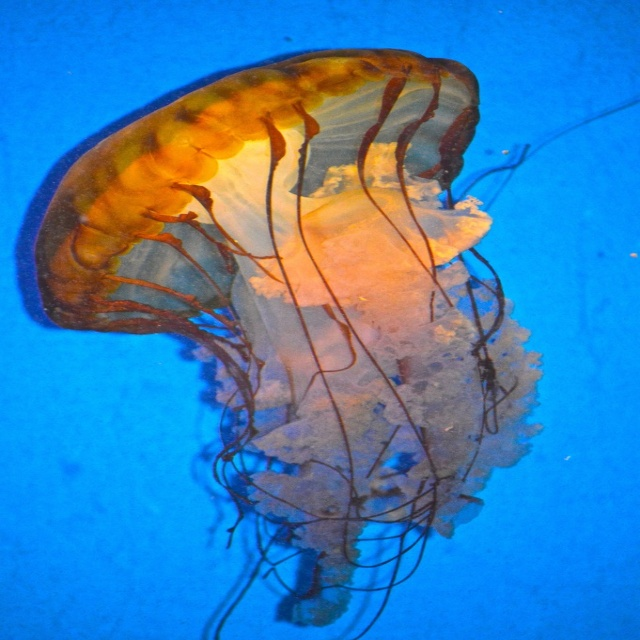Jellyfish: (16, 49, 640, 640)
